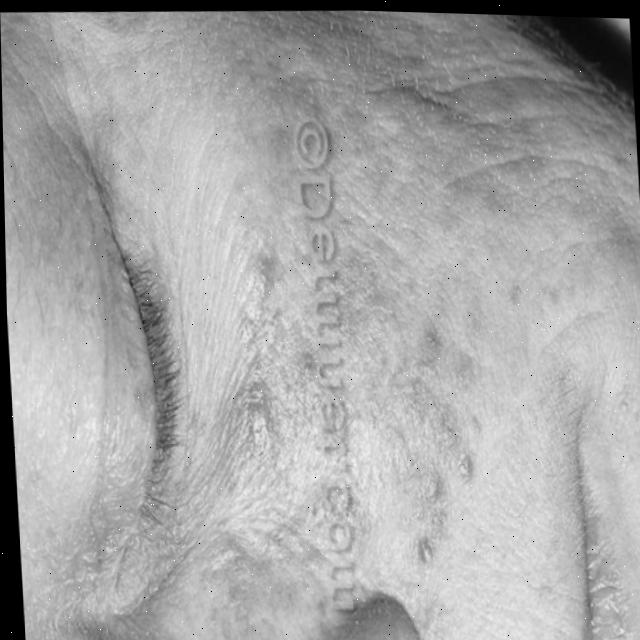Rosacea: (191, 6, 592, 571), (96, 546, 385, 640)
